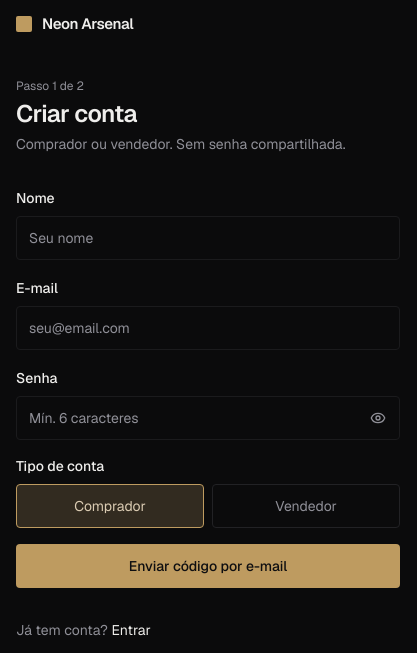
Register › keeps name and email from step 1 when going back from step 2
The image size is (417, 653).
Type "Ana" into the field labelled "Nome" at x=208, y=238, box [16,216,400,260]
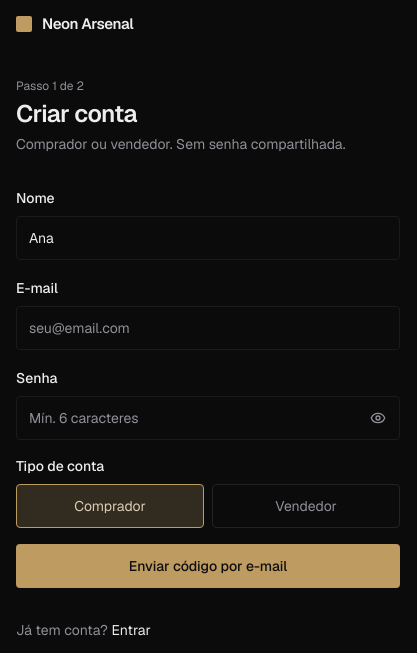
Type "ana@test.com" into the field labelled "E-mail" at x=208, y=328, box [16,306,400,350]
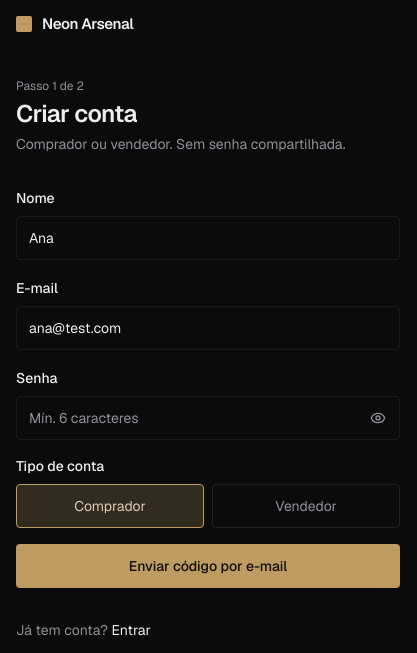
Type "secret1" into the password field labelled "Senha" at x=208, y=418, box [16,396,400,440]
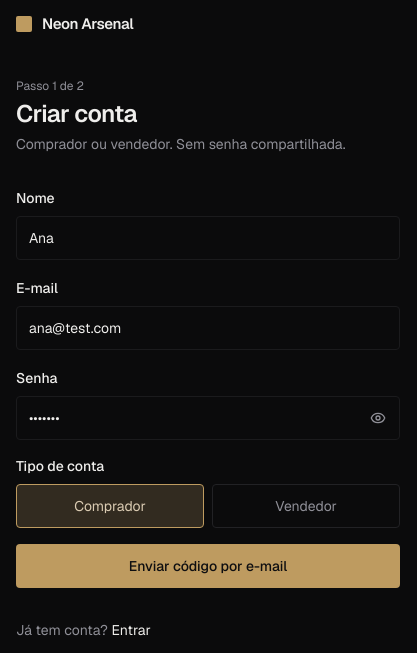
Click the button "Enviar código por e-mail" at x=208, y=566, box [16,544,400,588]
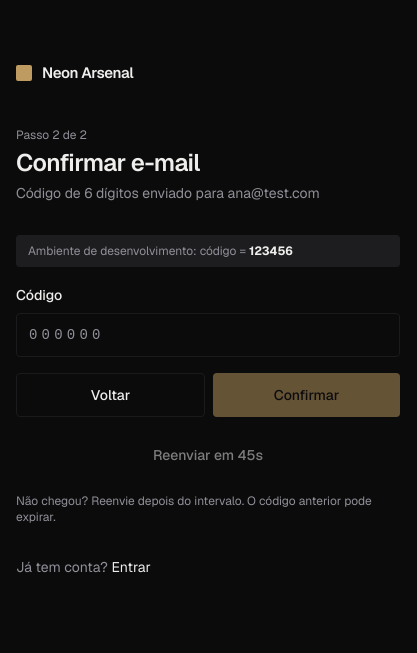
Expected: the field labelled "Código" is shown, [16,313,400,357]
Click the button "Voltar" at x=110, y=395, box [16,373,205,417]
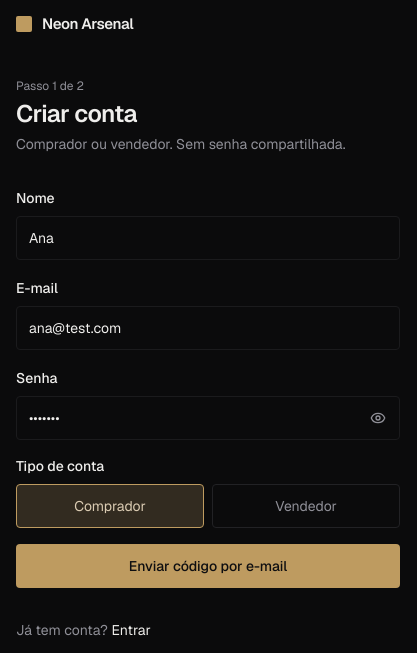
Expected: the field labelled "Nome" holds "Ana", [16,216,400,260]
